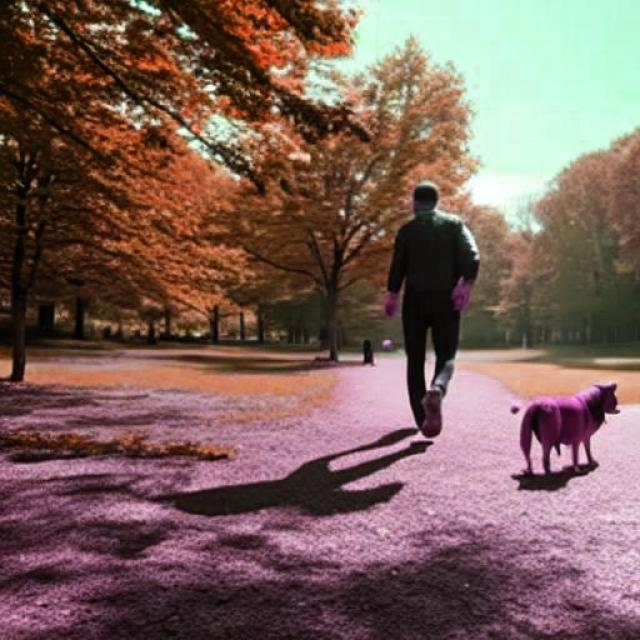Unleashed_Dog: (418, 301, 620, 474)
